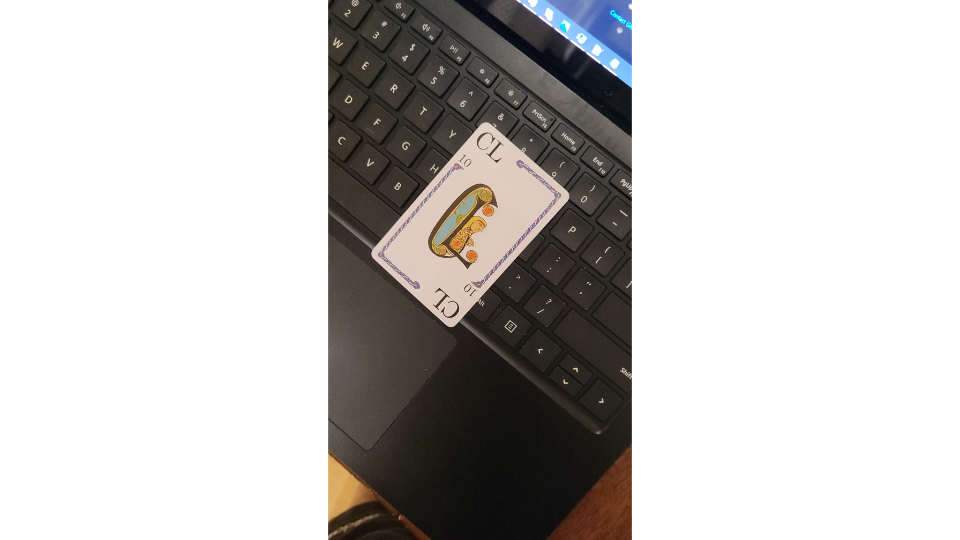CL: (368, 120, 573, 330)
